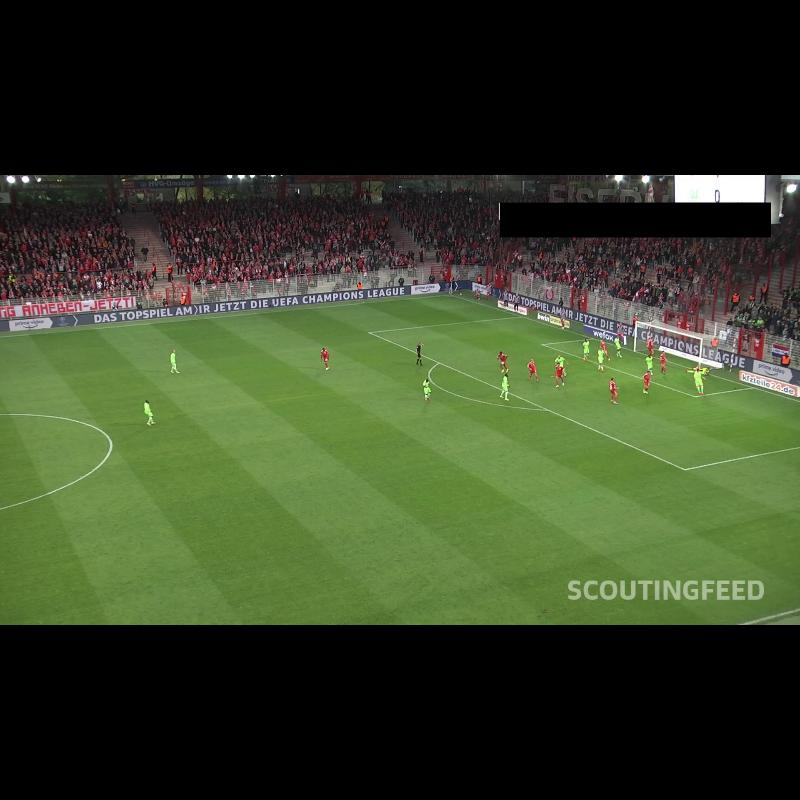cross_recipient_zone: (369, 316, 800, 469)
crossing_player_zone: (515, 448, 800, 625), (208, 295, 520, 345)
pitch: (0, 295, 800, 625)
